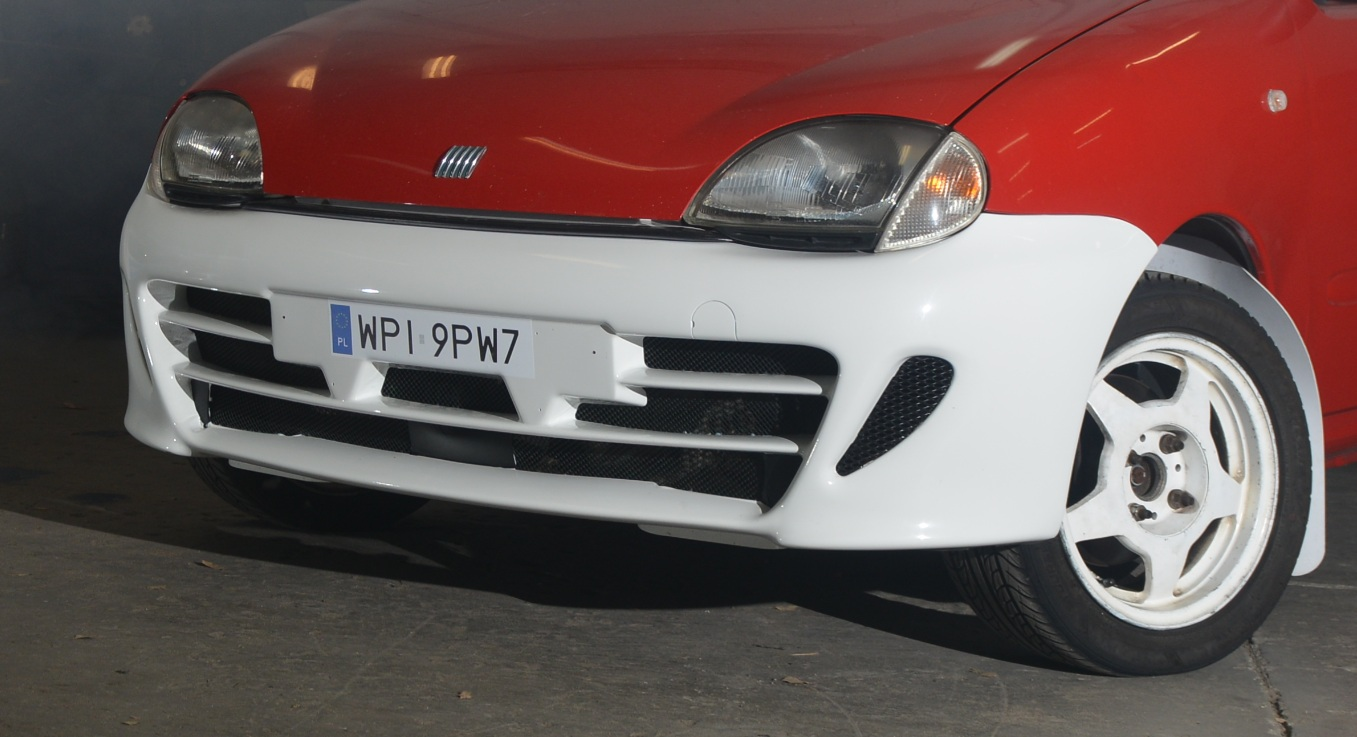number_plate: (329, 301, 539, 378)
